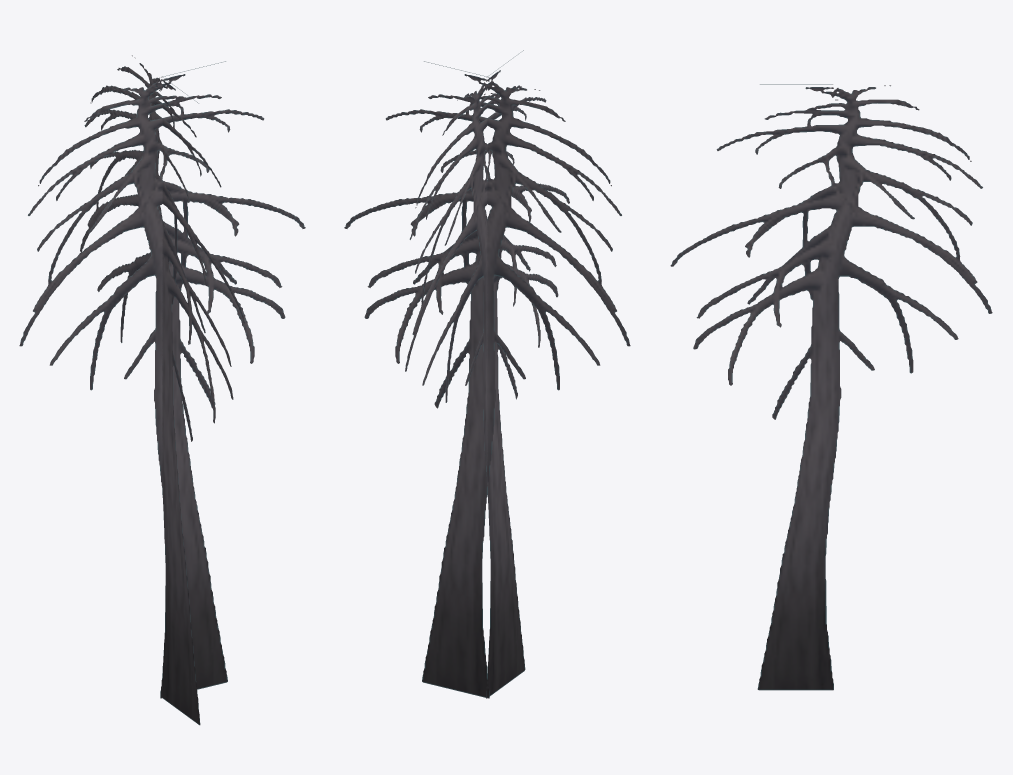
Rendered from deadtree_3_3.glb.
3 renders of one model, left to right at view 1: azimuth 30°, elevation 25°; view 2: azimuth 150°, elevation 25°; view 3: azimuth 270°, elevation 25°, orthographic. The views are drawn at different scales.
Parts seen in each view (by area): view 1: deadtree_3; view 2: deadtree_3; view 3: deadtree_3.
Boxes of the visible parts, x1,y1,x2,y2 form: deadtree_3: (19,55,305,725); deadtree_3: (344,50,630,698); deadtree_3: (670,84,992,690).
Size of the model in its own units: 6.64 by 13.28 by 6.64.
Materials: 1 (1 with a texture image).
